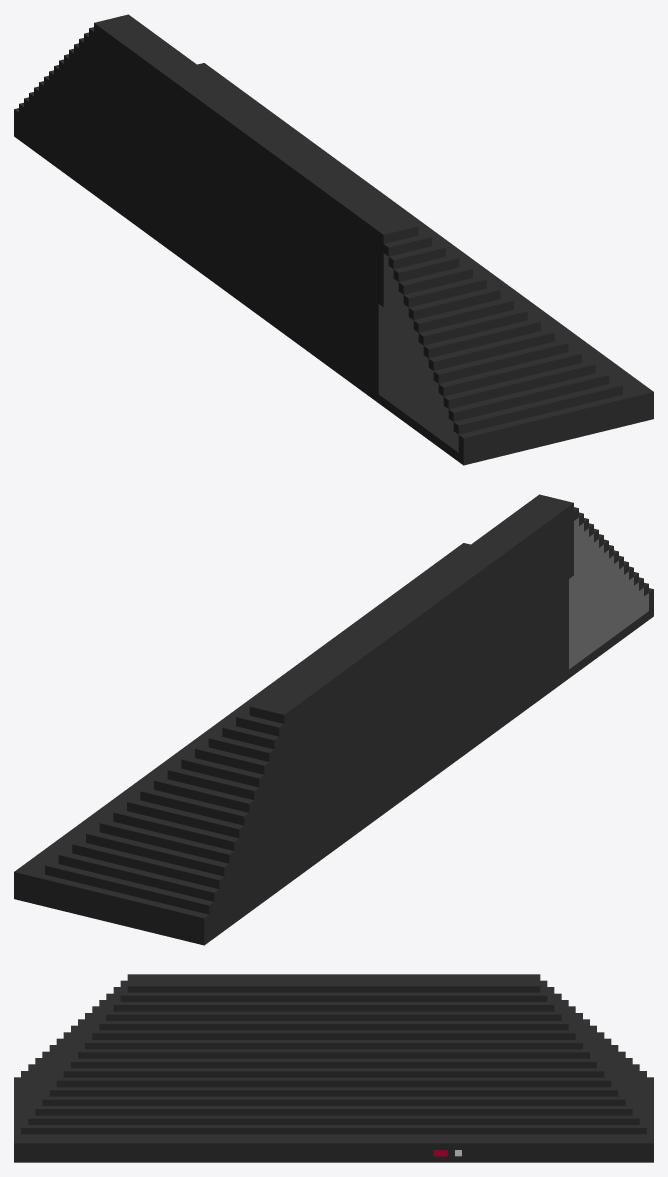
Rendered from vytyazhka.obj.
3 views of the same model, one above another, from view 1: azimuth 30°, elevation 25°; view 2: azimuth 150°, elevation 25°; view 3: azimuth 270°, elevation 25° (orthographic). The views are drawn at different scales.
Size of the model in its own units: 2.2 by 2 by 9.
1 material, 1 textured.
